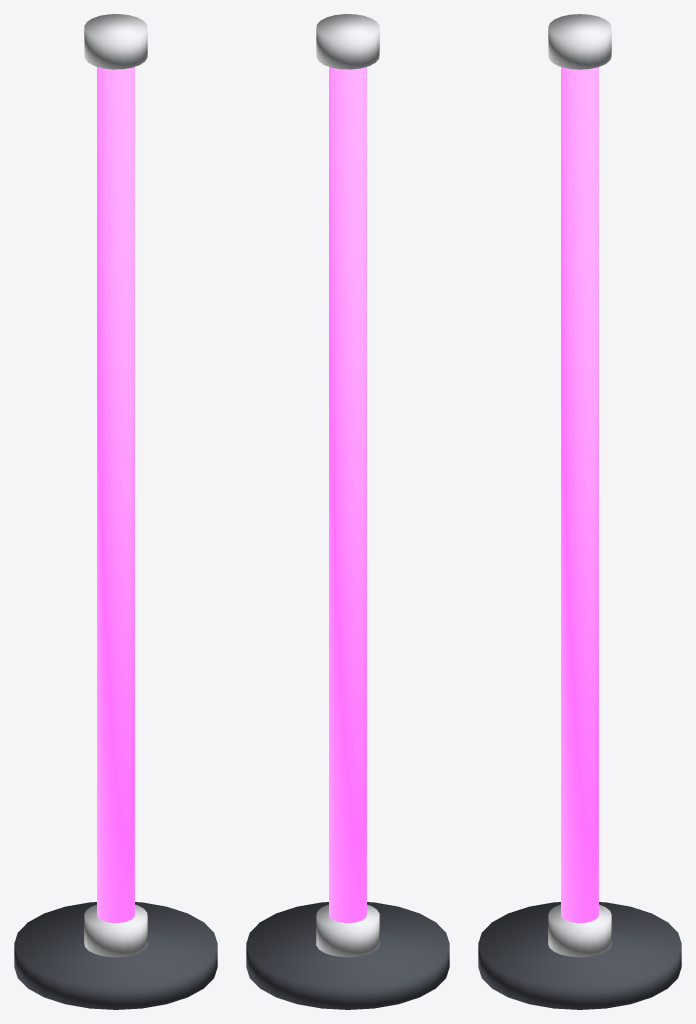
File: floor_lamp_tube.glb
3 renders of one model, left to right at view 1: azimuth 30°, elevation 25°; view 2: azimuth 150°, elevation 25°; view 3: azimuth 270°, elevation 25°, orthographic.
Visible parts, largest first — view 1: GD_floor_lamp_tube__m1, GD_floor_lamp_tube__m0, GD_floor_lamp_tube__m2; view 2: GD_floor_lamp_tube__m1, GD_floor_lamp_tube__m0, GD_floor_lamp_tube__m2; view 3: GD_floor_lamp_tube__m1, GD_floor_lamp_tube__m0, GD_floor_lamp_tube__m2.
Boxes of the visible parts, box(x1,y1,x2,y2) form: GD_floor_lamp_tube__m1: box(97, 67, 134, 922); GD_floor_lamp_tube__m0: box(14, 902, 217, 1009); GD_floor_lamp_tube__m2: box(84, 14, 147, 957); GD_floor_lamp_tube__m1: box(329, 67, 366, 922); GD_floor_lamp_tube__m0: box(246, 902, 449, 1009); GD_floor_lamp_tube__m2: box(316, 14, 379, 957); GD_floor_lamp_tube__m1: box(561, 67, 598, 922); GD_floor_lamp_tube__m0: box(478, 902, 681, 1009); GD_floor_lamp_tube__m2: box(548, 14, 611, 957).
Bounding box in the file's own units: 0.32 × 1.63 × 0.32.
